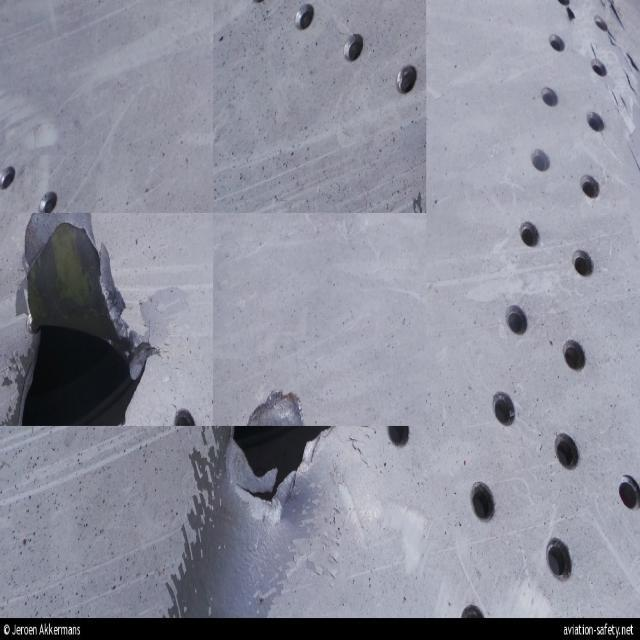crack: (8, 216, 163, 425), (227, 428, 335, 509), (626, 51, 640, 97), (610, 4, 628, 35)
